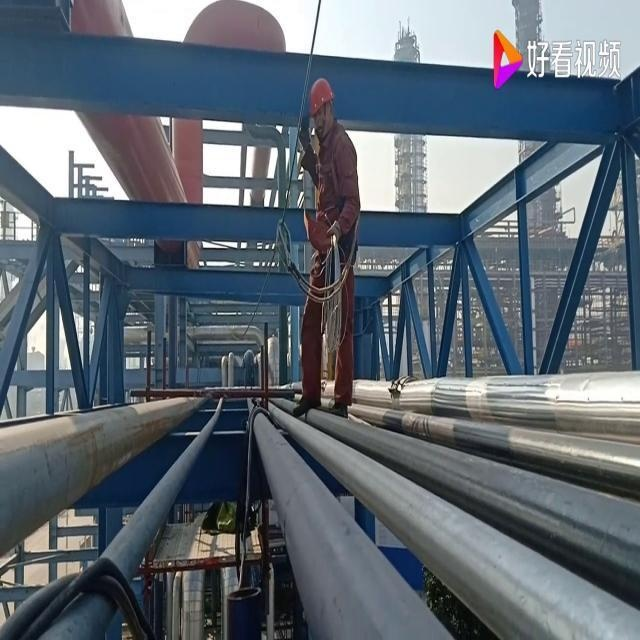Arnes_seguridad: (310, 124, 356, 224)
